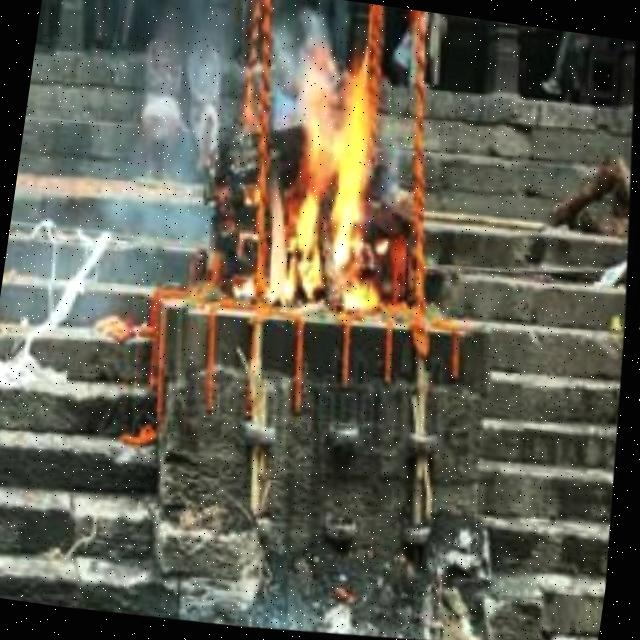fire: (237, 43, 409, 327)
